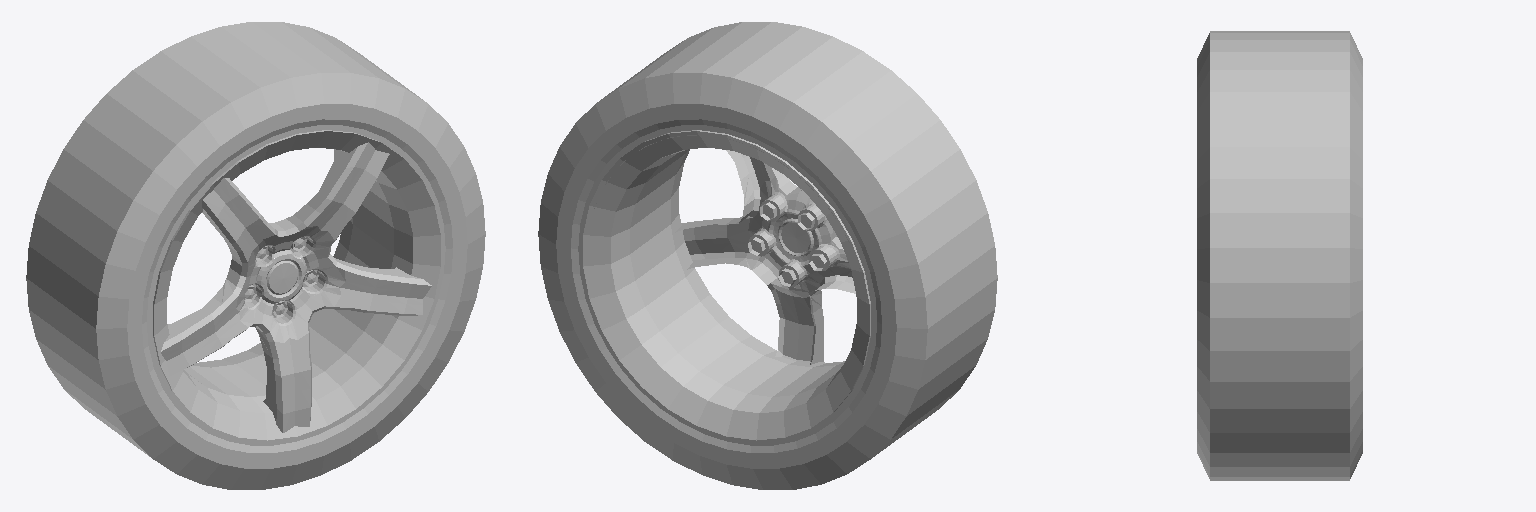
3 renders of one model, left to right at view 1: azimuth 30°, elevation 25°; view 2: azimuth 150°, elevation 25°; view 3: azimuth 270°, elevation 25°, orthographic.
Visible parts, largest first — view 1: X6163_901C_R_X6163_901C_R_3_DM, X6163_901C_R_X6163_901C_R_1_DaS, X6163_901C_R_2_D_X6163_901C_R; view 2: X6163_901C_R_X6163_901C_R_3_DM, X6163_901C_R_X6163_901C_R_1_DaS, X6163_901C_R_2_D_X6163_901C_R; view 3: X6163_901C_R_X6163_901C_R_3_DM.
Part boxes in pixels (left/top/right/bottom): X6163_901C_R_X6163_901C_R_3_DM: left=26, top=22, right=485, bottom=489; X6163_901C_R_X6163_901C_R_1_DaS: left=153, top=130, right=440, bottom=440; X6163_901C_R_2_D_X6163_901C_R: left=267, top=261, right=297, bottom=294; X6163_901C_R_X6163_901C_R_3_DM: left=538, top=22, right=997, bottom=489; X6163_901C_R_X6163_901C_R_1_DaS: left=583, top=130, right=870, bottom=440; X6163_901C_R_2_D_X6163_901C_R: left=779, top=221, right=810, bottom=255; X6163_901C_R_X6163_901C_R_3_DM: left=1197, top=31, right=1362, bottom=480.
Bounding box in the file's own units: 77.42 × 77.42 × 28.68.